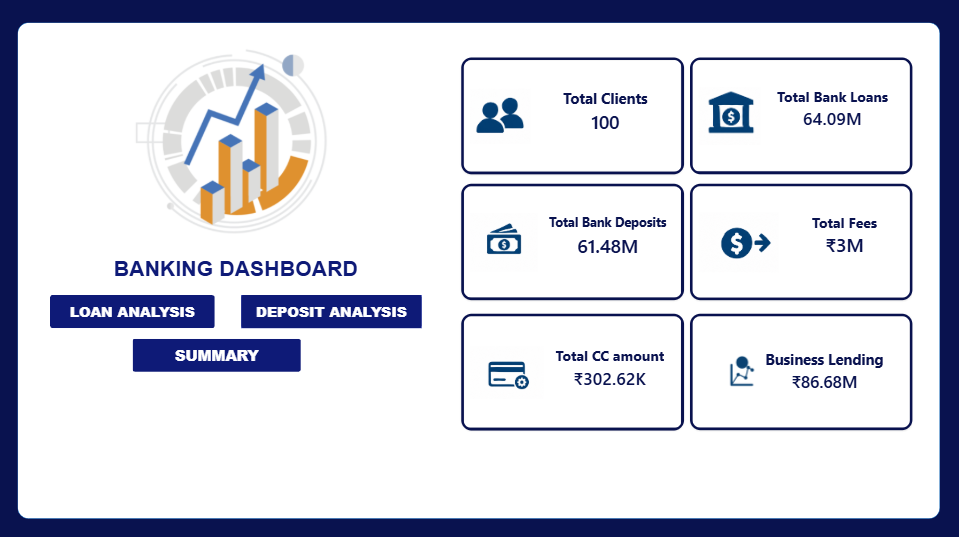

This screenshot's page, from the dashboard's own definition file:
{"tool":"powerbi","page":{"name":"HOME","canvas":[1920,1080],"ordinal":0},"visuals":[{"type":"shape","box":[35,45,1845,992.5],"z":0},{"type":"cardVisual","fields":{"Data":["Banking_Data.Total Clients"]},"box":[922.1,116,445.4,233.7],"z":1000},{"type":"cardVisual","fields":{"Data":["Banking_Data.Total Bank Loans"]},"box":[1380.4,116,445,233.7],"z":2000},{"type":"cardVisual","fields":{"Data":["Banking_Data.Total Bank Deposits"]},"box":[922.1,368.1,445.4,233],"z":3000},{"type":"cardVisual","fields":{"Data":["Banking_Data.Total Credit Card Balance"]},"box":[922.1,627.6,445.4,233.7],"z":4000},{"type":"cardVisual","fields":{"Data":["Banking_Data.Total Fees"]},"box":[1380.4,368.1,445,233],"z":5000},{"type":"cardVisual","fields":{"Data":["Banking_Data.Total Business Lending"]},"box":[1380.4,627.6,445,233],"z":6000},{"type":"textbox","box":[99.4,511.7,743.6,55.2],"z":7000},{"type":"actionButton","box":[482.2,589,360.7,66.3],"z":8000},{"type":"actionButton","box":[99.4,589,329.4,66.3],"z":9000},{"type":"actionButton","box":[265,677.3,336.8,66.3],"z":10000},{"type":"image","box":[265,81,403.1,403.1],"z":11000}]}

Visuals, with their boxes in screenshot pixels (x1, y1, x2, y2), scaled from the page's 1920x1080 canvas onto the 959x537 screenshot:
shape: [17,22,939,516]
cardVisual - Banking_Data.Total Clients: [461,58,683,174]
cardVisual - Banking_Data.Total Bank Loans: [689,58,912,174]
cardVisual - Banking_Data.Total Bank Deposits: [461,183,683,299]
cardVisual - Banking_Data.Total Credit Card Balance: [461,312,683,428]
cardVisual - Banking_Data.Total Fees: [689,183,912,299]
cardVisual - Banking_Data.Total Business Lending: [689,312,912,428]
textbox: [50,254,421,282]
actionButton: [241,293,421,326]
actionButton: [50,293,214,326]
actionButton: [132,337,301,370]
image: [132,40,334,241]
